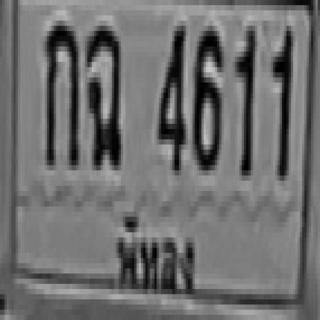A01: (44, 18, 78, 170)
A09: (85, 23, 121, 171)
N01: (233, 21, 255, 179), (271, 23, 292, 177)
N04: (156, 21, 186, 173)
N06: (190, 20, 224, 172)
P41: (112, 204, 200, 301)
